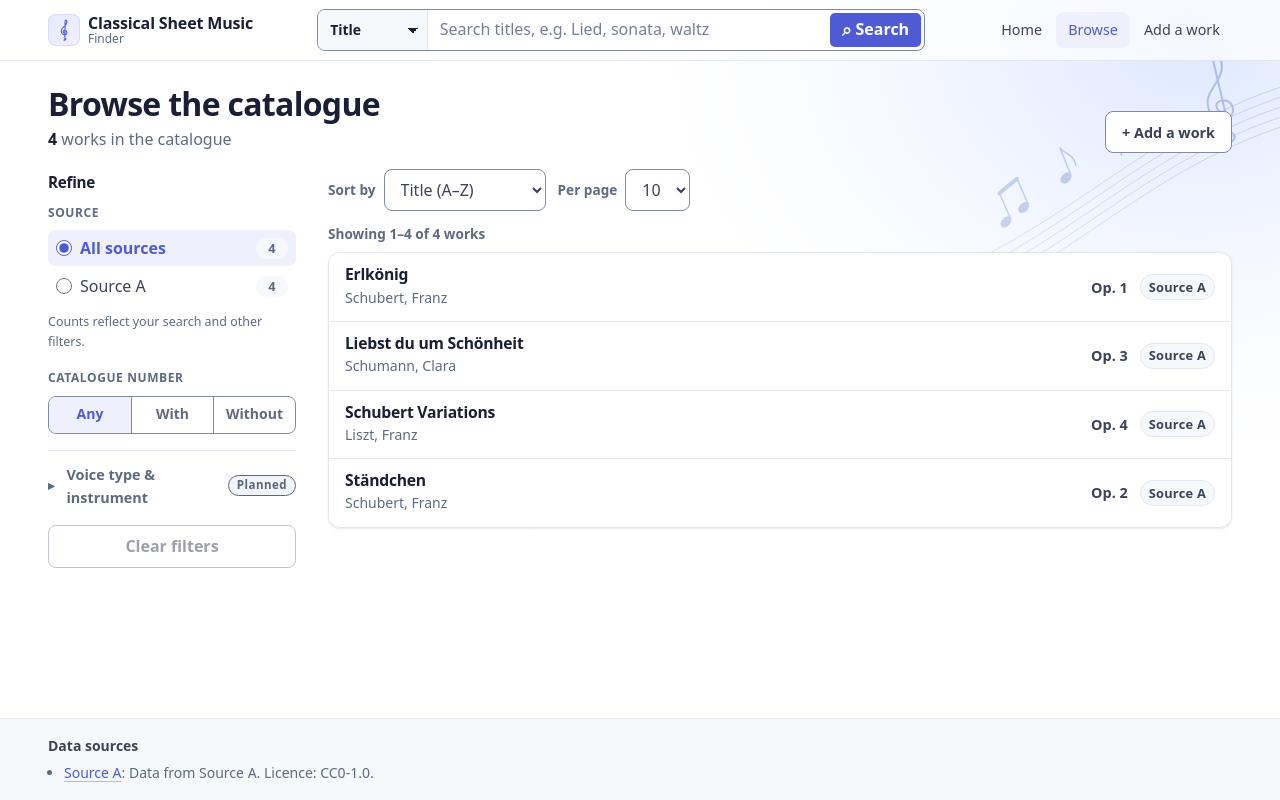
Test case: GlobalSearch › searches titles as you type on the catalogue page
This screenshot has width=1280, height=800.
Expected: the text "Showing 1–4 of 4 works" is shown, [328, 223, 485, 244]
Type "schubert" into the search field named "Search by title" at (627, 30), box [428, 10, 827, 50]
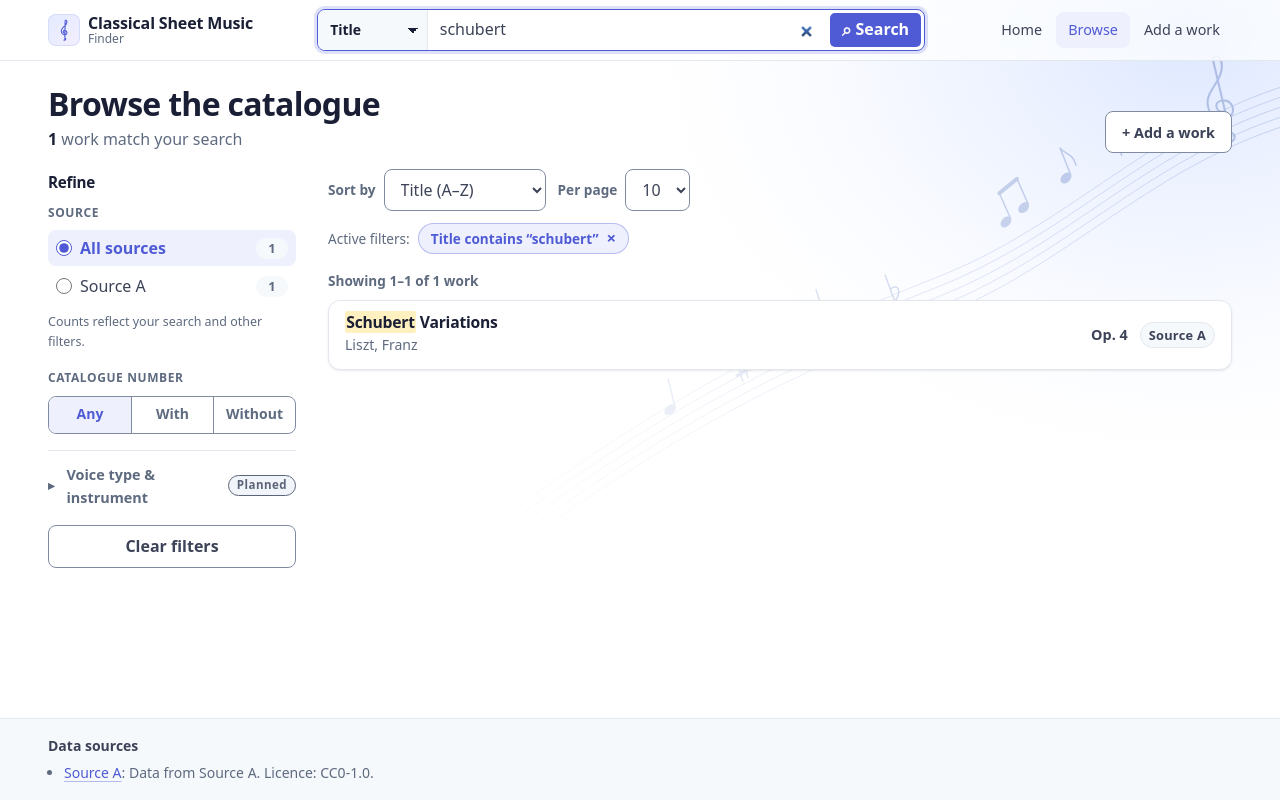
Expected: the link "Schubert Variations" is shown, [345, 311, 498, 333]
Now the text "Showing 1–1 of 1 work" is shown, box [328, 270, 478, 292]
